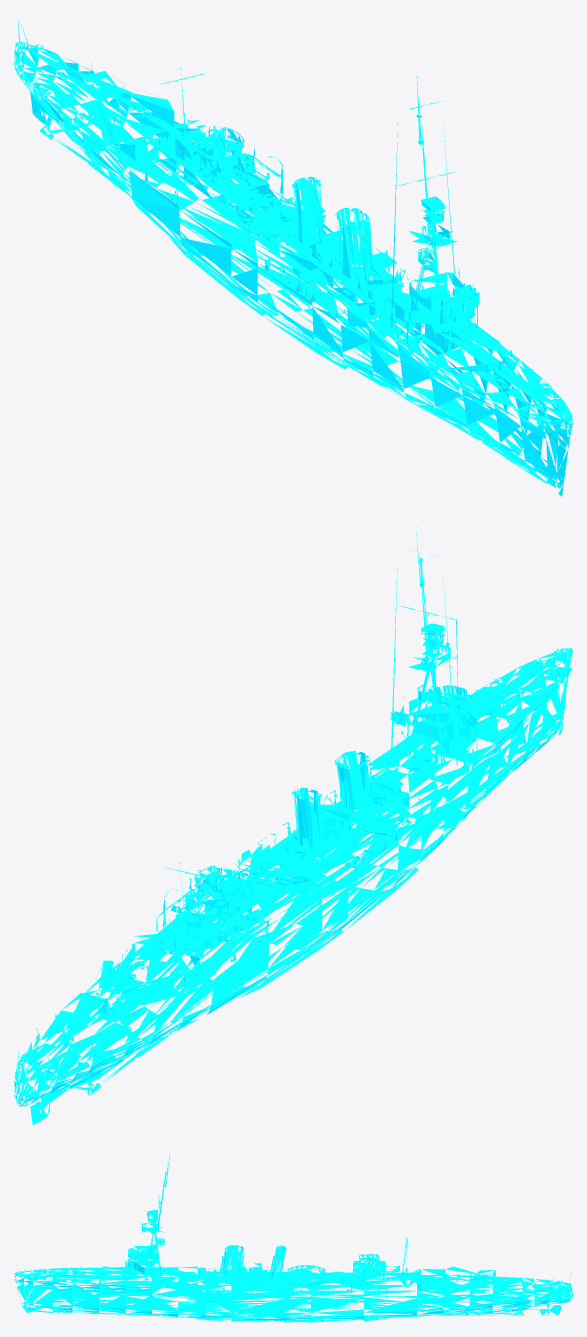
File: Caledon.glb
The picture shows the model from 3 angles, top to bottom: view 1: azimuth 30°, elevation 25°; view 2: azimuth 150°, elevation 25°; view 3: azimuth 270°, elevation 25°; orthographic projection. The views are drawn at different scales.
Size of the model in its own units: 0.9068 by 2.9 by 9.14.
